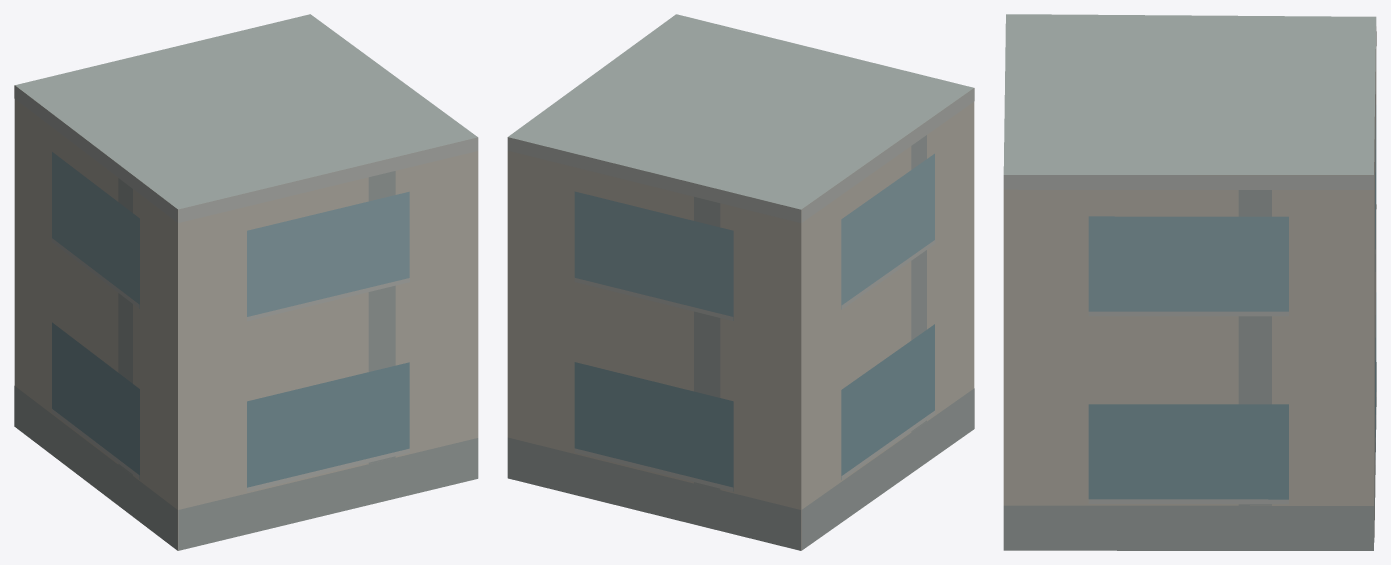
File: survey-upis-32730870.glb
3 views of the same model, side by side, from view 1: azimuth 30°, elevation 25°; view 2: azimuth 150°, elevation 25°; view 3: azimuth 270°, elevation 25° (orthographic). The views are drawn at different scales.
Parts seen in each view (by area): view 1: survey-upis-32730870.tmp; view 2: survey-upis-32730870.tmp; view 3: survey-upis-32730870.tmp.
Part boxes in pixels (x1=…): survey-upis-32730870.tmp: x1=14, y1=14, x2=478, y2=550; survey-upis-32730870.tmp: x1=507, y1=14, x2=974, y2=550; survey-upis-32730870.tmp: x1=1003, y1=14, x2=1376, y2=550.
Size of the model in its own units: 5.62 by 6.1 by 5.5.
